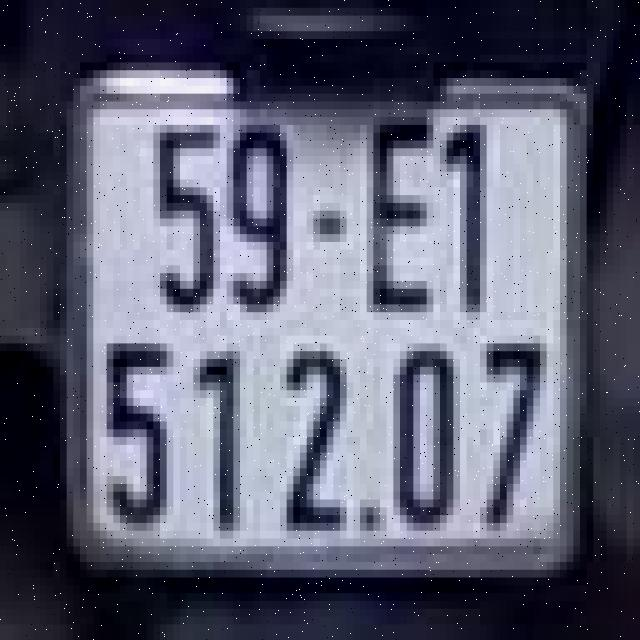0: (380, 336, 473, 538)
1: (440, 97, 500, 324), (187, 344, 253, 546)
2: (270, 336, 357, 530)
5: (90, 320, 177, 523), (146, 113, 226, 324)
7: (473, 332, 560, 534)
9: (223, 105, 290, 332)
E: (356, 101, 436, 320)
